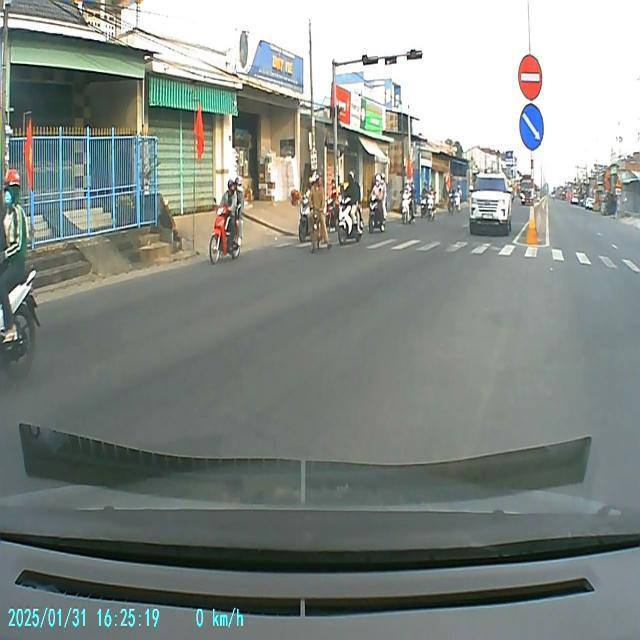102-cam-di-nguoc-chieu: (517, 54, 544, 101)
302a-huong-phai-di-vong-chuong-ngai-vat-1: (518, 103, 545, 152)
